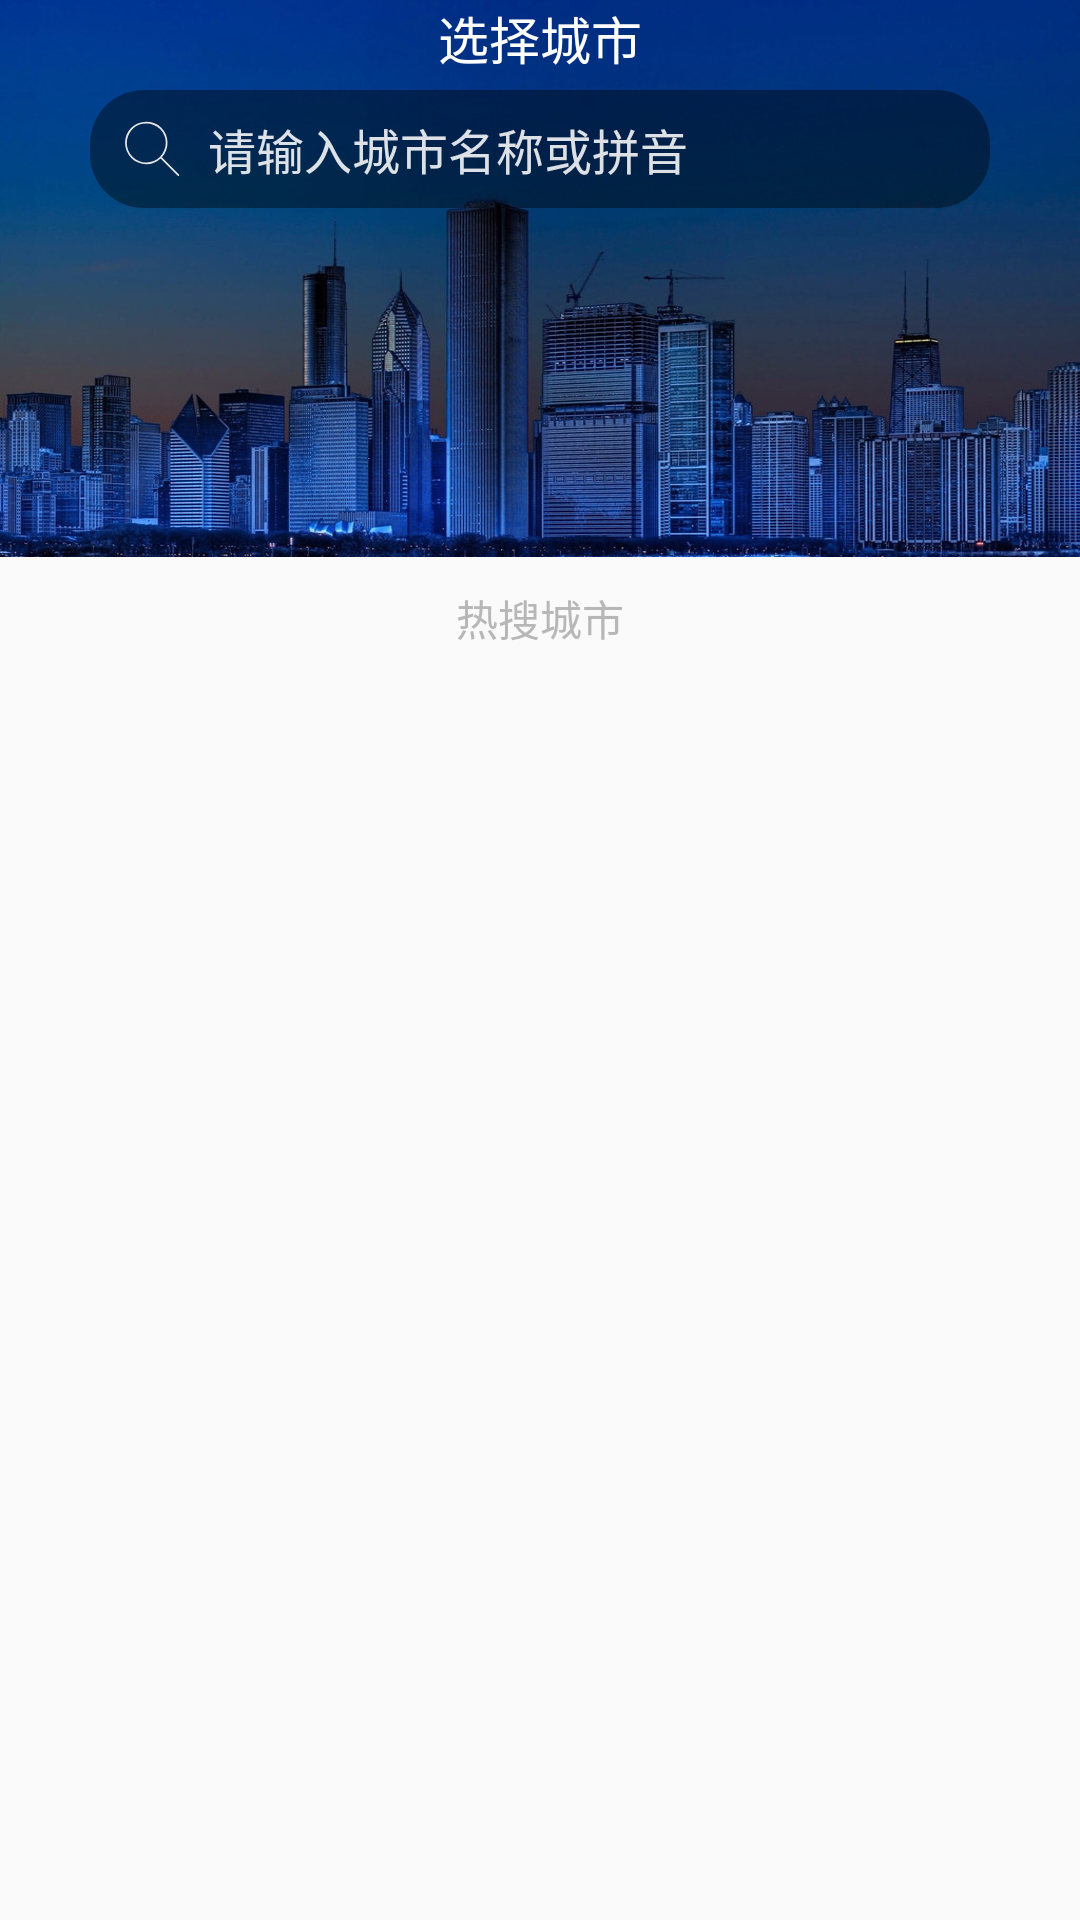

Icons on this 1080*1920 Android screen, each with its box as {"x1": x1, "y1": y1, "x2": x2, "y2": y2}:
search: {"x1": 125, "y1": 121, "x2": 179, "y2": 176}
